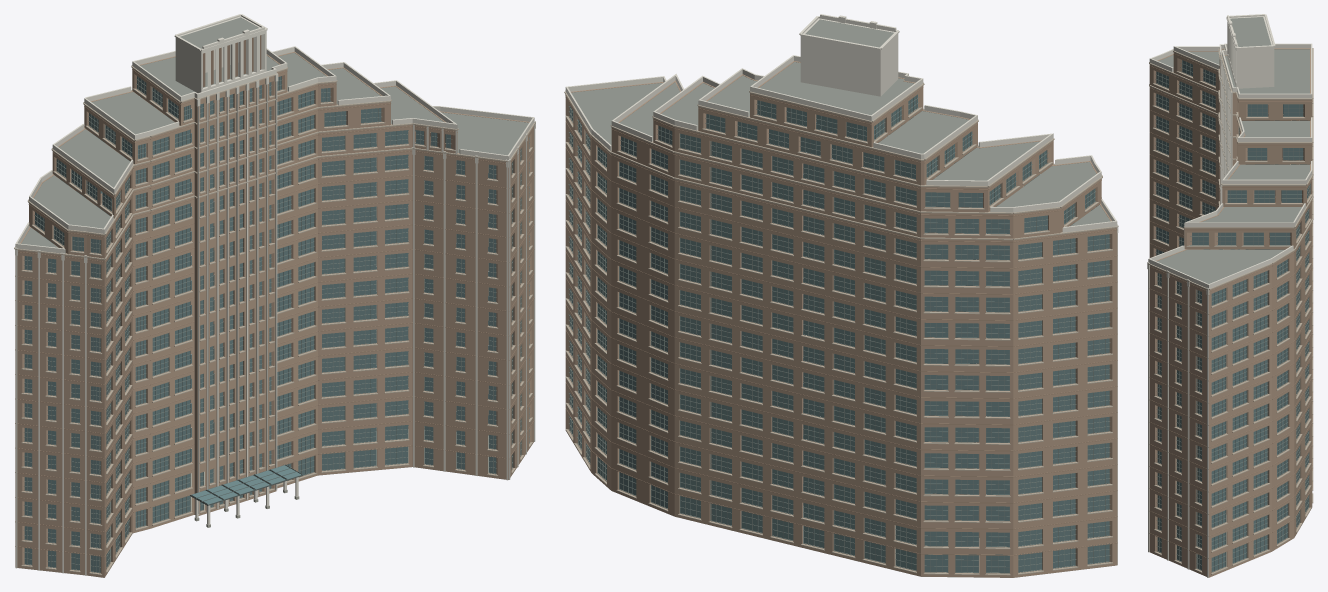
File: huangpu-grosvenor-house-raw.glb
The picture shows the model from 3 angles, left to right: view 1: azimuth 30°, elevation 25°; view 2: azimuth 150°, elevation 25°; view 3: azimuth 270°, elevation 25°; orthographic projection. The views are drawn at different scales.
Parts seen in each view (by area): view 1: 峻岭公寓历史高层主楼外观候选; view 2: 峻岭公寓历史高层主楼外观候选; view 3: 峻岭公寓历史高层主楼外观候选.
Part boxes in pixels (x1,y1,x2,y2): 峻岭公寓历史高层主楼外观候选: [14, 14, 535, 577]; 峻岭公寓历史高层主楼外观候选: [564, 14, 1118, 577]; 峻岭公寓历史高层主楼外观候选: [1147, 14, 1313, 577].
Size of the model in its own units: 90.98 by 78 by 27.79.
